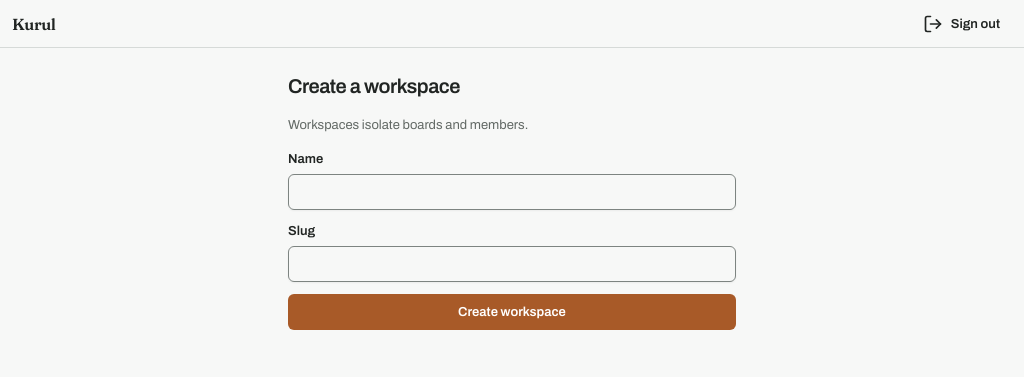
Test case: NewWorkspacePage › keeps the form filled in when creation fails
Type "Steppe Collective" into the field labelled "Name" at (512, 192), box [288,174,736,210]
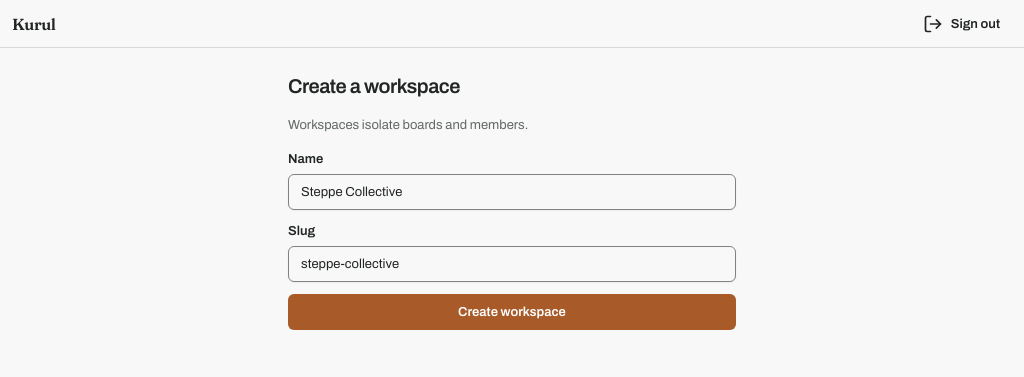
Click the button "Create workspace" at (512, 312), box [288,294,736,330]
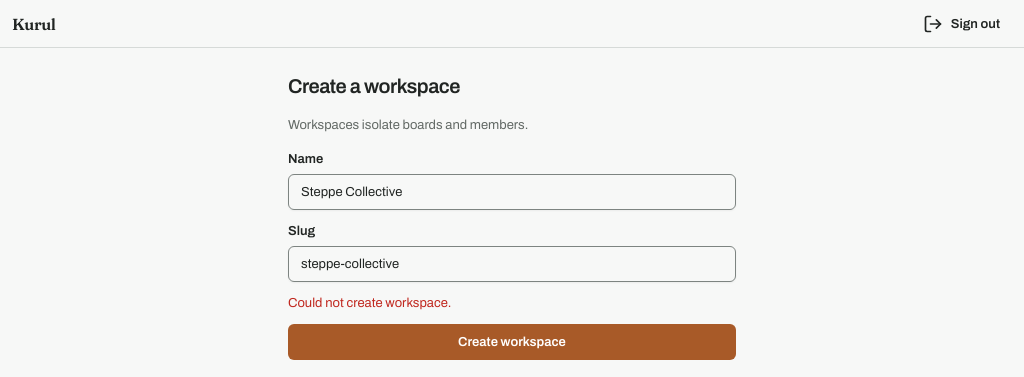
Expected: the text "Could not create workspace." is shown, [288,296,451,310]
